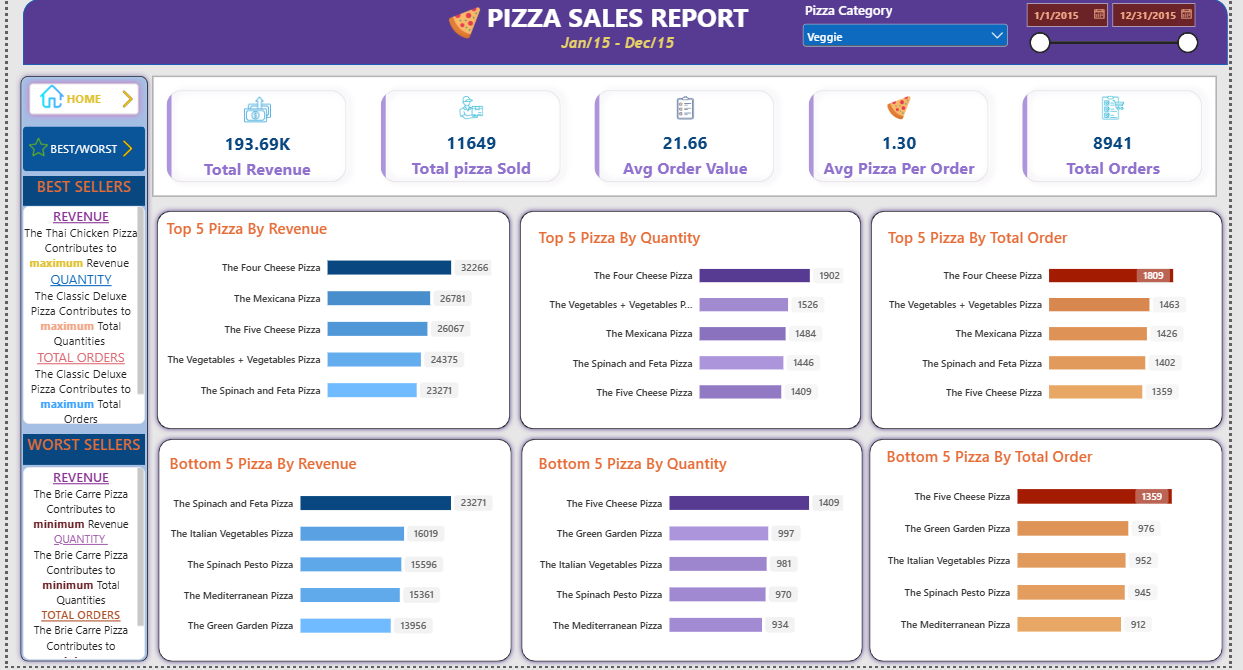

The dashboard page shown, as its layout file describes it:
{"tool":"powerbi","page":{"name":"BEST/WORST","canvas":[1500,820],"ordinal":1},"visuals":[{"type":"cardVisual","fields":{"Data":["public pizza_sales.Total Revenue","public pizza_sales.Total pizza Sold","public pizza_sales.avg_amount_spent_per_order","public pizza_sales.Average Pizza Per Order","public pizza_sales.Total Orders"]},"box":[177.7,94.5,1312.2,149.4],"z":0},{"type":"shape","box":[17.8,0,1481.1,81.1],"z":1000},{"type":"textbox","box":[529.6,0,440.7,59],"z":2000},{"type":"textbox","box":[621.5,42.4,256.3,51.6],"z":3000},{"type":"image","box":[529.3,7.4,63.3,43.3],"z":4000},{"type":"shape","box":[178.9,534.8,446.3,285.8],"z":9000},{"type":"shape","box":[625.2,534.8,431.5,285.8],"z":10000},{"type":"shape","box":[1053,534.8,446.3,285.8],"z":11000},{"type":"shape","box":[8.9,87.8,168.9,732.2],"z":15000},{"type":"textbox","box":[17.8,217.8,150,36.7],"z":16000},{"type":"textbox","box":[18.1,254.2,150,268.1],"z":17000},{"type":"textbox","box":[17.8,574.4,150,236.7],"z":18000},{"type":"textbox","box":[17.8,535.6,150,37.8],"z":19000},{"type":"slicer","fields":{"Values":["public pizza_sales.pizza_category"]},"box":[971.2,2.5,262.3,81.1],"z":20000},{"type":"slicer","fields":{"Values":["public pizza_sales.order_date"]},"box":[1245,0,221.2,73.8],"z":21000},{"type":"shape","box":[177,254.5,446.3,280.3],"z":21001},{"type":"shape","box":[623.3,254.5,431.5,280.3],"z":21002},{"type":"shape","box":[1054.8,254.5,444.4,280.3],"z":21003},{"type":"barChart","title":"Top 5 Pizza By Revenue","fields":{"Category":["public pizza_sales.pizza_name"],"Y":["public pizza_sales.Total Revenue"]},"box":[178.9,254.5,431.5,267.4],"z":21004},{"type":"barChart","title":"Bottom 5 Pizza By Revenue","fields":{"Category":["public pizza_sales.pizza_name"],"Y":["public pizza_sales.Total Revenue"]},"box":[183.3,544.4,431.5,267.4],"z":21005},{"type":"barChart","title":"Top 5 Pizza By Quantity","fields":{"Category":["public pizza_sales.pizza_name"],"Y":["public pizza_sales.Total pizza Sold"]},"box":[636.4,264.9,406.5,257.1],"z":21006},{"type":"barChart","title":"Bottom 5 Pizza By Quantity","fields":{"Category":["public pizza_sales.pizza_name"],"Y":["public pizza_sales.Total pizza Sold"]},"box":[636.4,544.2,406.5,266.2],"z":21007},{"type":"barChart","title":"Top 5 Pizza By Total Order","fields":{"Category":["public pizza_sales.pizza_name"],"Y":["public pizza_sales.Total Orders"]},"box":[1066.2,266.2,423.4,257.1],"z":21008},{"type":"barChart","title":"Bottom 5 Pizza By Total Order","fields":{"Category":["public pizza_sales.pizza_name"],"Y":["public pizza_sales.Total Orders"]},"box":[1064.5,535.1,423.5,276.1],"z":21009},{"type":"pageNavigator","box":[18.5,96.3,150.9,54.6],"z":21010},{"type":"pageNavigator","box":[18.5,156.5,150.9,55.6],"z":21011},{"type":"image","box":[39,105.5,30.5,29.7],"z":21012},{"type":"image","box":[136.2,140.1,21.1,87.5],"z":21013},{"type":"image","box":[136.4,79.3,21.1,87.5],"z":21014},{"type":"image","box":[25.7,141.4,23.6,80],"z":21015}]}

Visuals, with their boxes in screenshot pixels (x1, y1, x2, y2), scaled from the page's 1500x820 canvas onto the 1243x670 screenshot:
cardVisual - public pizza_sales.Total Revenue x public pizza_sales.Total pizza Sold: bbox=(147, 77, 1235, 199)
shape: bbox=(15, 0, 1242, 66)
textbox: bbox=(439, 0, 804, 48)
textbox: bbox=(515, 35, 727, 77)
image: bbox=(439, 6, 491, 41)
shape: bbox=(148, 437, 518, 669)
shape: bbox=(518, 437, 876, 669)
shape: bbox=(873, 437, 1242, 669)
shape: bbox=(7, 72, 147, 669)
textbox: bbox=(15, 178, 139, 208)
textbox: bbox=(15, 208, 139, 427)
textbox: bbox=(15, 469, 139, 663)
textbox: bbox=(15, 438, 139, 469)
slicer - public pizza_sales.pizza_category: bbox=(805, 2, 1022, 68)
slicer - public pizza_sales.order_date: bbox=(1032, 0, 1215, 60)
shape: bbox=(147, 208, 517, 437)
shape: bbox=(517, 208, 874, 437)
shape: bbox=(874, 208, 1242, 437)
"Top 5 Pizza By Revenue" barChart: bbox=(148, 208, 506, 426)
"Bottom 5 Pizza By Revenue" barChart: bbox=(152, 445, 509, 663)
"Top 5 Pizza By Quantity" barChart: bbox=(527, 216, 864, 427)
"Bottom 5 Pizza By Quantity" barChart: bbox=(527, 445, 864, 662)
"Top 5 Pizza By Total Order" barChart: bbox=(884, 218, 1234, 428)
"Bottom 5 Pizza By Total Order" barChart: bbox=(882, 437, 1233, 663)
pageNavigator: bbox=(15, 79, 140, 123)
pageNavigator: bbox=(15, 128, 140, 173)
image: bbox=(32, 86, 58, 110)
image: bbox=(113, 114, 130, 186)
image: bbox=(113, 65, 131, 136)
image: bbox=(21, 116, 41, 181)
